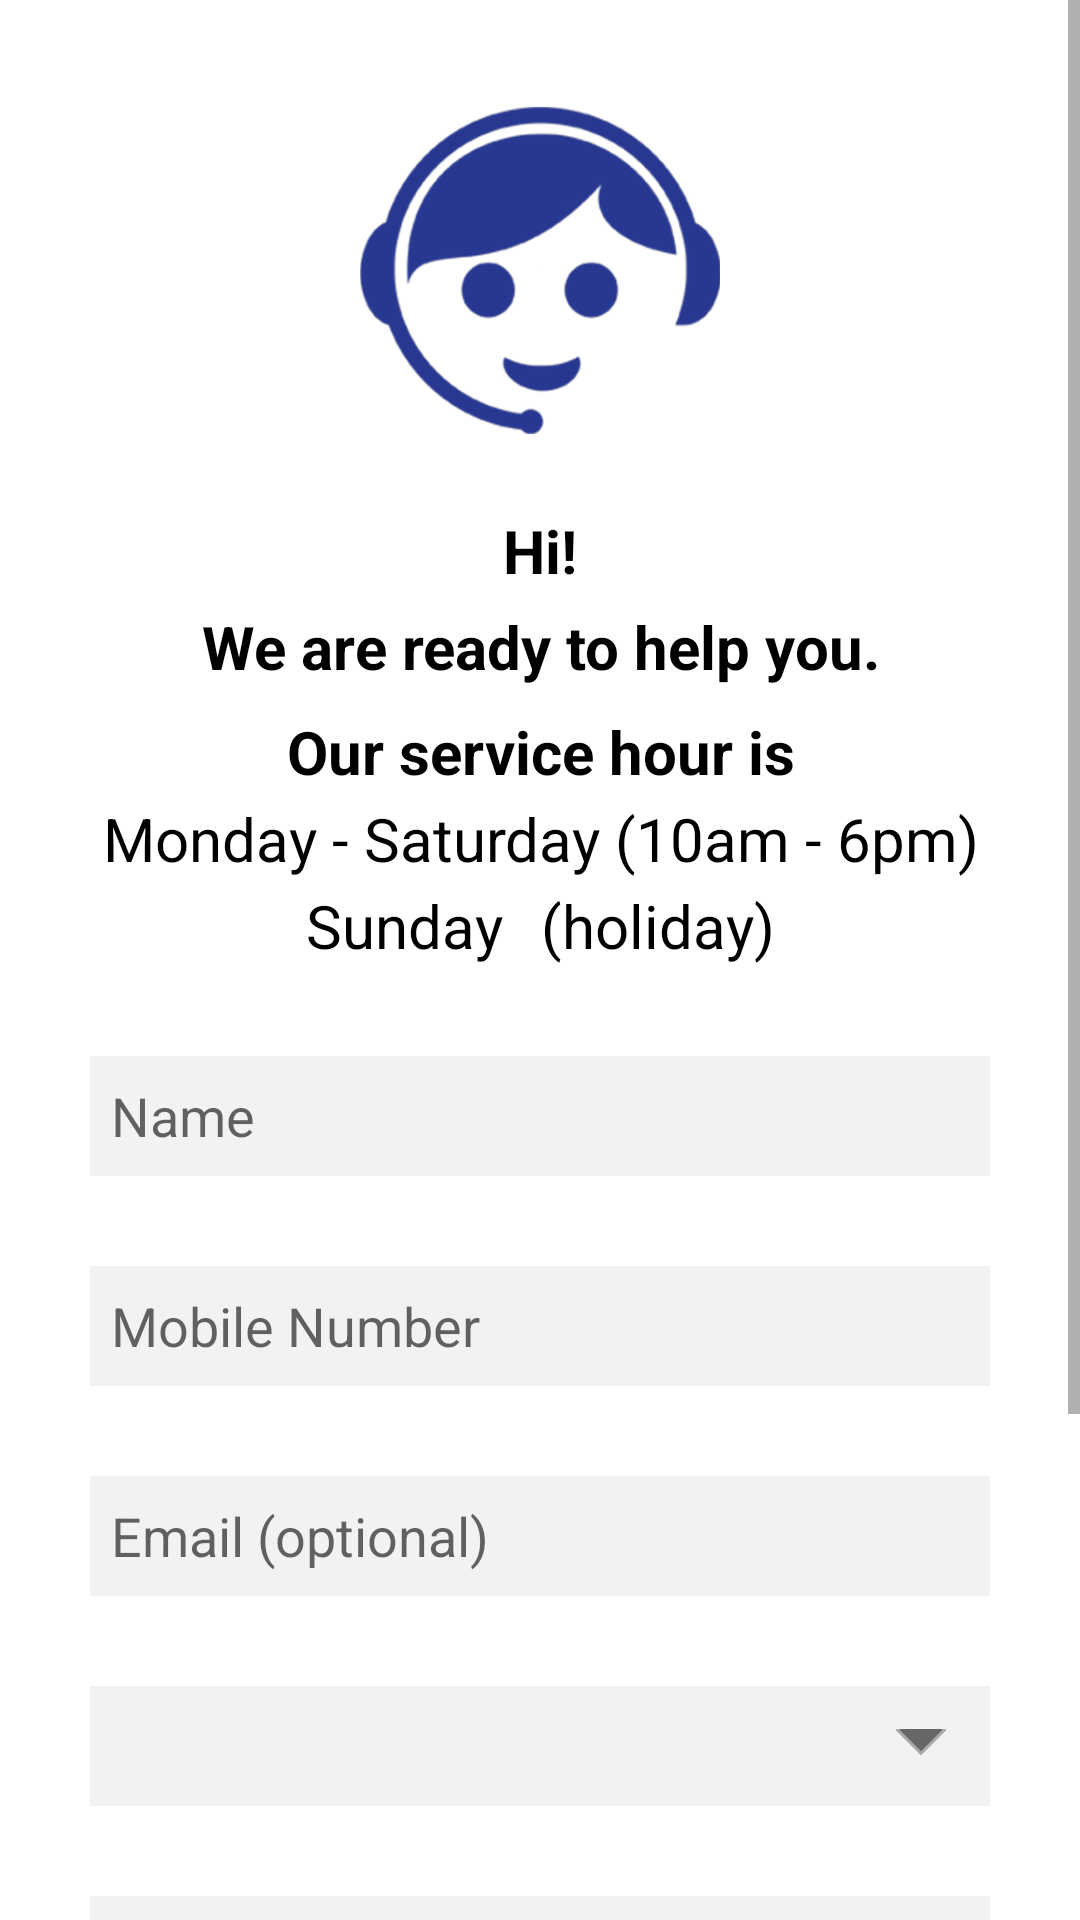

Icons on this 1080 × 1920 Android screen, each with its box as region(x1, y1, x2, y2):
contac: region(360, 107, 720, 434)
